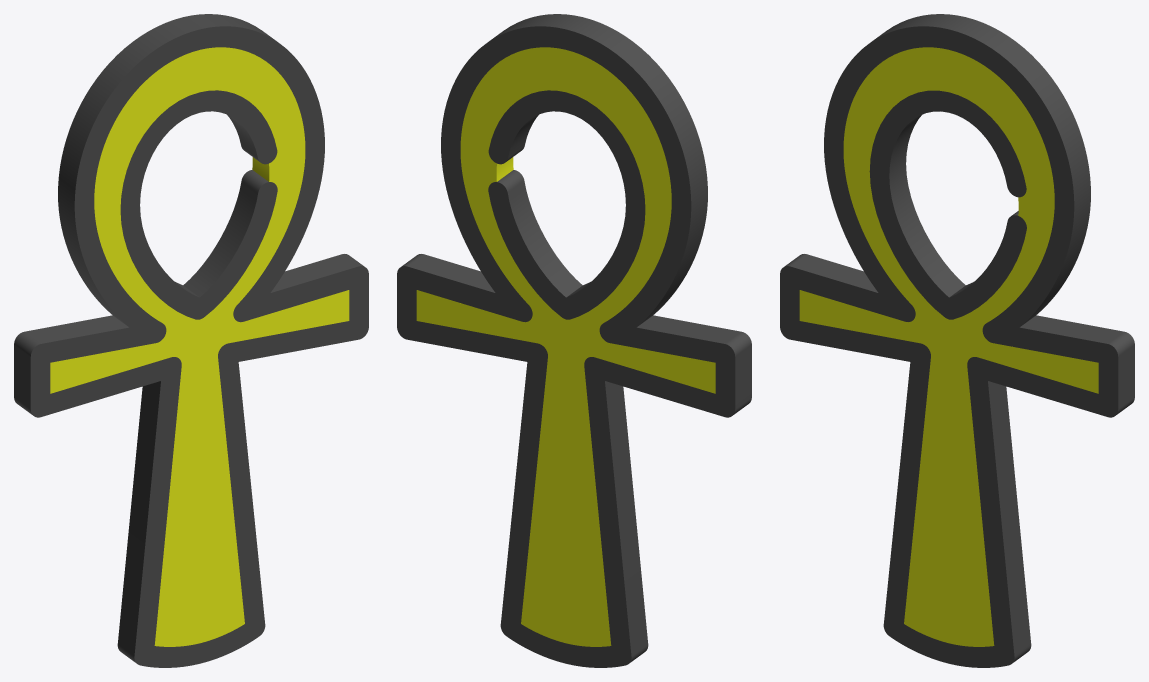
Rendered from Cruz.fbx.
3 renders of one model, left to right at view 1: azimuth 30°, elevation 25°; view 2: azimuth 150°, elevation 25°; view 3: azimuth 330°, elevation 25°, orthographic.
Visible parts, largest first — view 1: Curve.001; view 2: Curve.001; view 3: Curve.001.
Boxes of the visible parts, x1=… form: Curve.001: x1=14, y1=14, x2=368, y2=667; Curve.001: x1=397, y1=14, x2=751, y2=667; Curve.001: x1=780, y1=14, x2=1134, y2=667.
Size of the model in its own units: 51.78 by 92.85 by 4.44.
